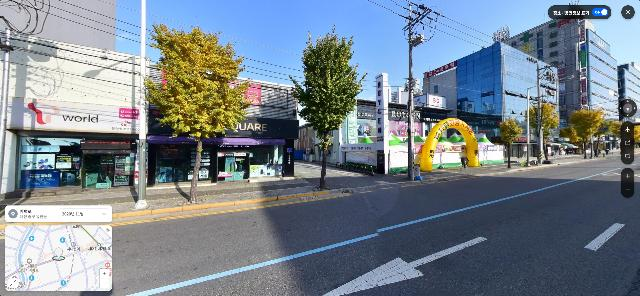ginkgo: (135, 23, 255, 204), (528, 101, 560, 165), (567, 108, 600, 159)
other: (289, 23, 369, 191), (497, 118, 524, 169)
